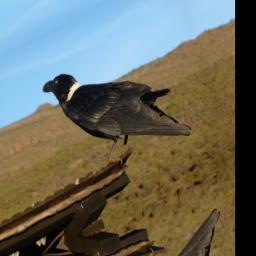Crow: (38, 21, 193, 194)
